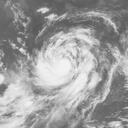cyclone: (30, 29, 99, 98)
